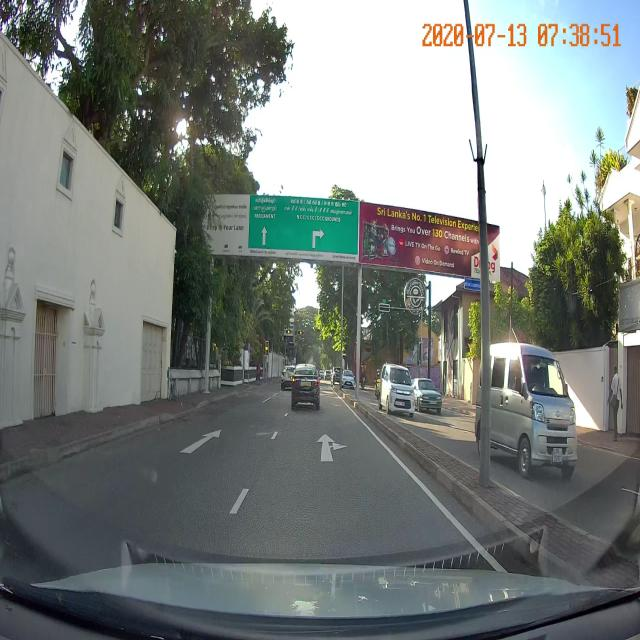forward_right: (245, 422, 422, 479), (242, 435, 422, 479), (241, 439, 426, 480)
